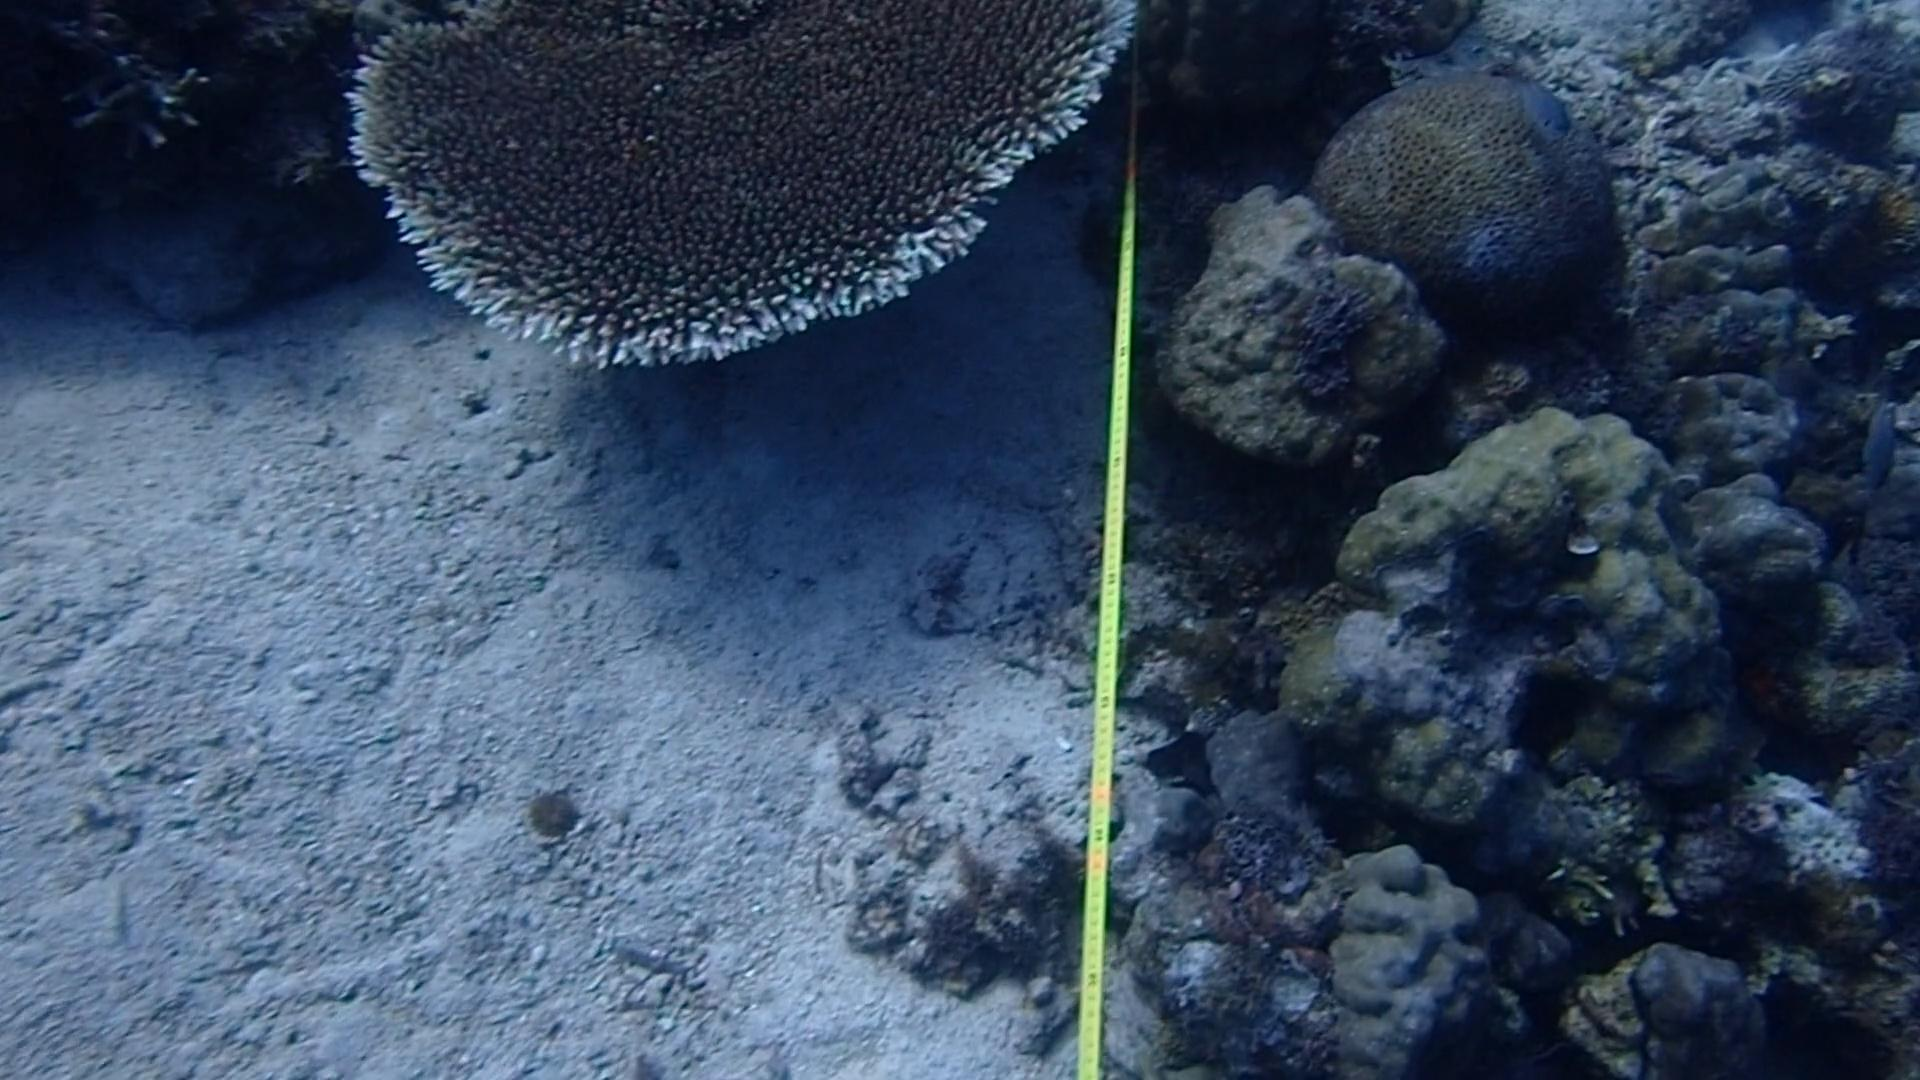Light Fish: (1487, 54, 1592, 152), (1859, 384, 1913, 500)
